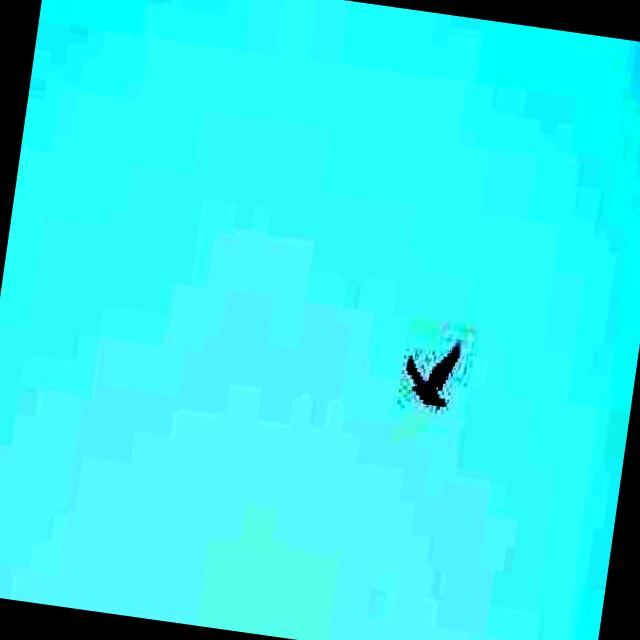bird: (396, 329, 463, 417)
